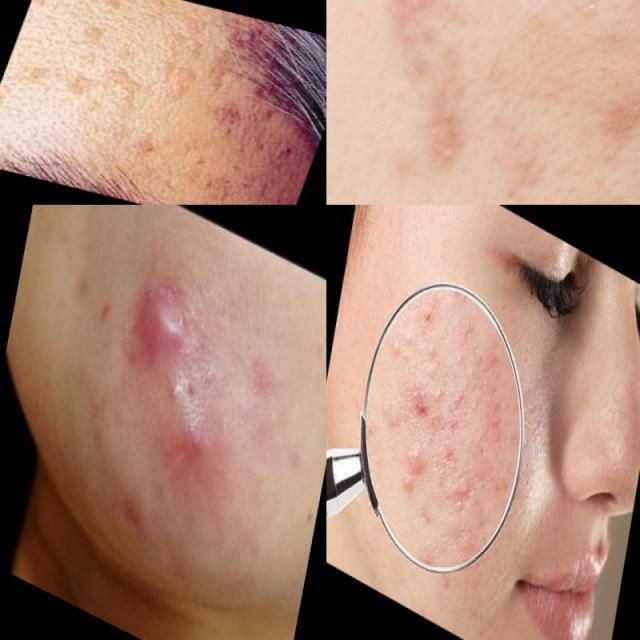8: (394, 464, 419, 506)
blackheads: (367, 49, 497, 204), (442, 478, 472, 532), (444, 384, 466, 435), (406, 389, 428, 424)
pustules: (110, 249, 208, 401), (154, 384, 233, 511)
